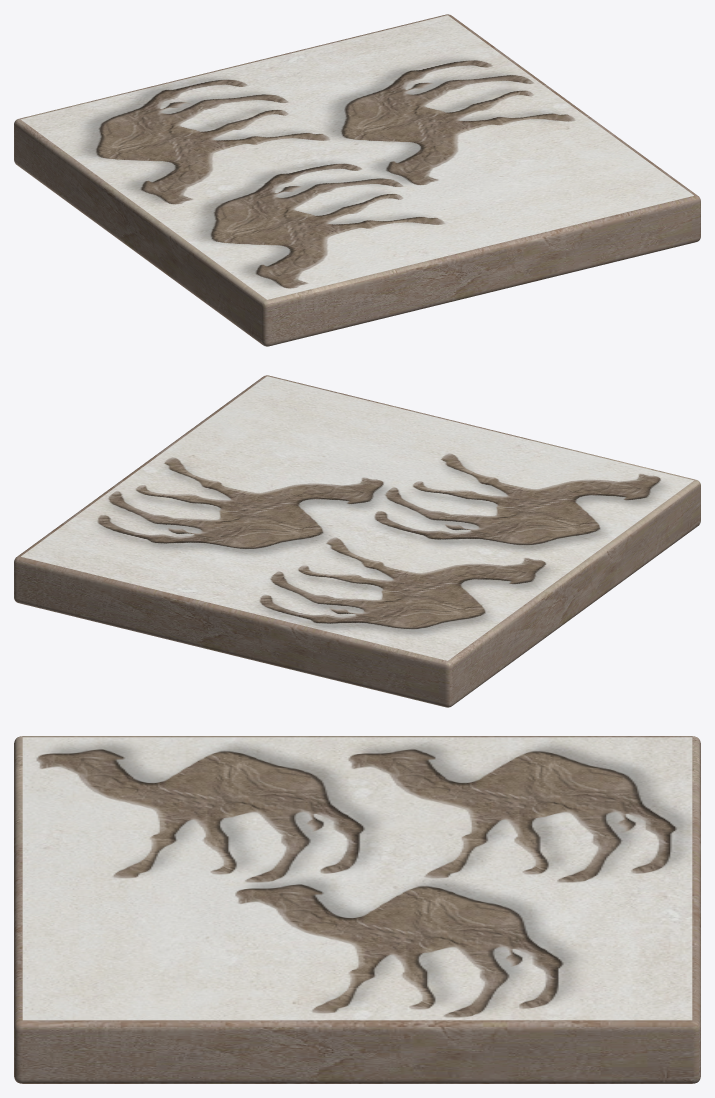
The model's file is tile27.glb.
3 views of the same model, one above another, from view 1: azimuth 30°, elevation 25°; view 2: azimuth 150°, elevation 25°; view 3: azimuth 270°, elevation 25° (orthographic). The views are drawn at different scales.
Visible parts, largest first — view 1: Box001; view 2: Box001; view 3: Box001.
Part boxes in pixels (<box>): Box001: <box>14,14,700,346</box>; Box001: <box>14,375,700,707</box>; Box001: <box>14,736,700,1083</box>.
Bounding box in the file's own units: 0.254 × 0.0254 × 0.254.
Materials: 2 (2 with a texture image).
